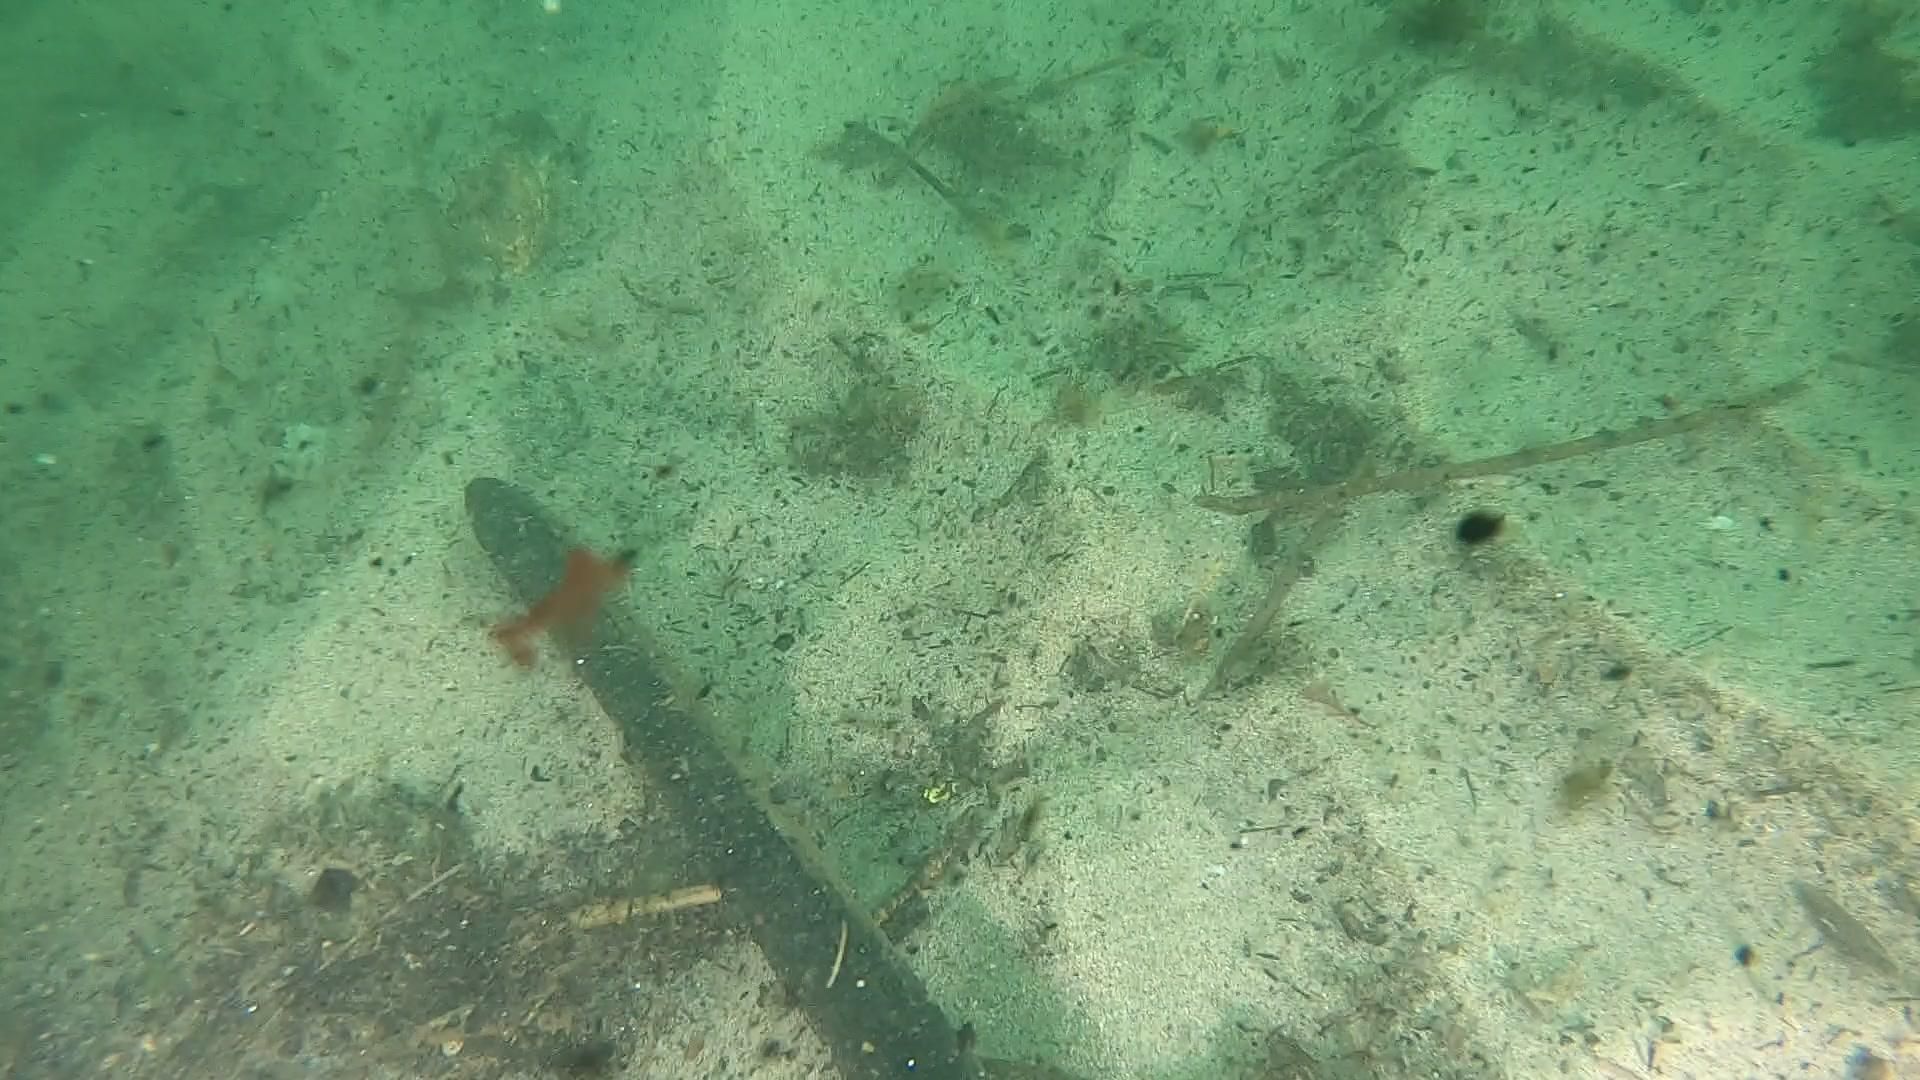wood: (459, 476, 992, 1080)
